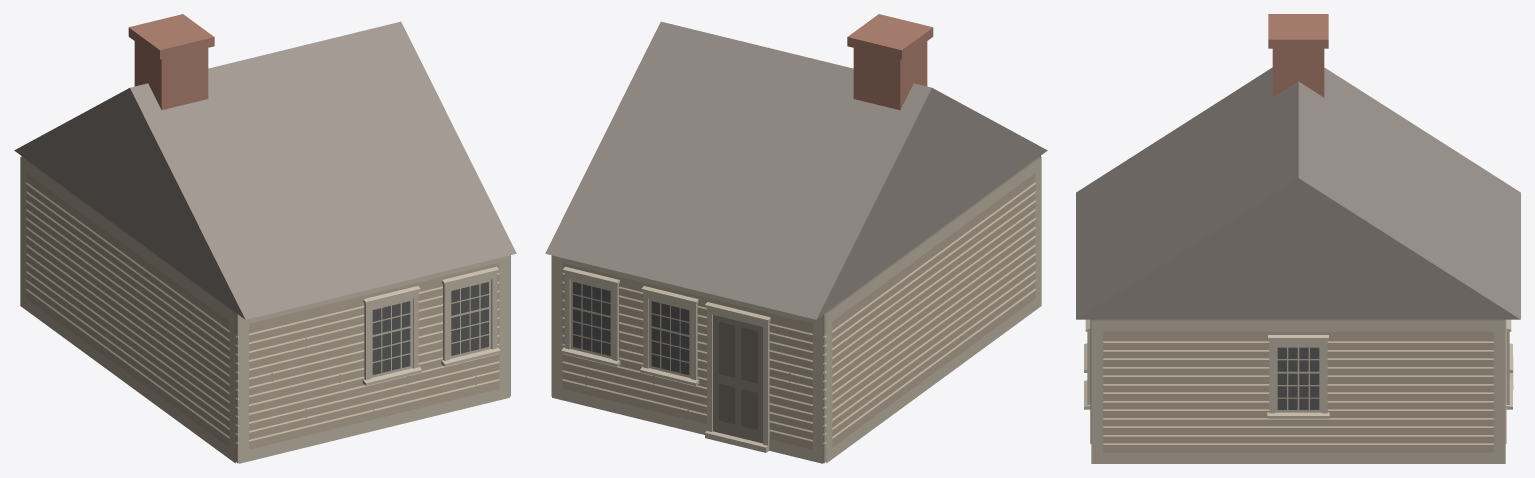
File: inf_artisan_dwelling_west_b__inferred_1835.glb
3 renders of one model, left to right at view 1: azimuth 30°, elevation 25°; view 2: azimuth 150°, elevation 25°; view 3: azimuth 270°, elevation 25°, orthographic. The views are drawn at different scales.
Parts seen in each view (by area): view 1: inf_artisan_dwelling_west_b__inferred_1835; view 2: inf_artisan_dwelling_west_b__inferred_1835; view 3: inf_artisan_dwelling_west_b__inferred_1835.
Part boxes in pixels (left/top/right/bottom): inf_artisan_dwelling_west_b__inferred_1835: left=14, top=14, right=516, bottom=463; inf_artisan_dwelling_west_b__inferred_1835: left=545, top=14, right=1047, bottom=463; inf_artisan_dwelling_west_b__inferred_1835: left=1076, top=14, right=1520, bottom=463.
Size of the model in its own units: 5.03 by 5.88 by 7.21.
